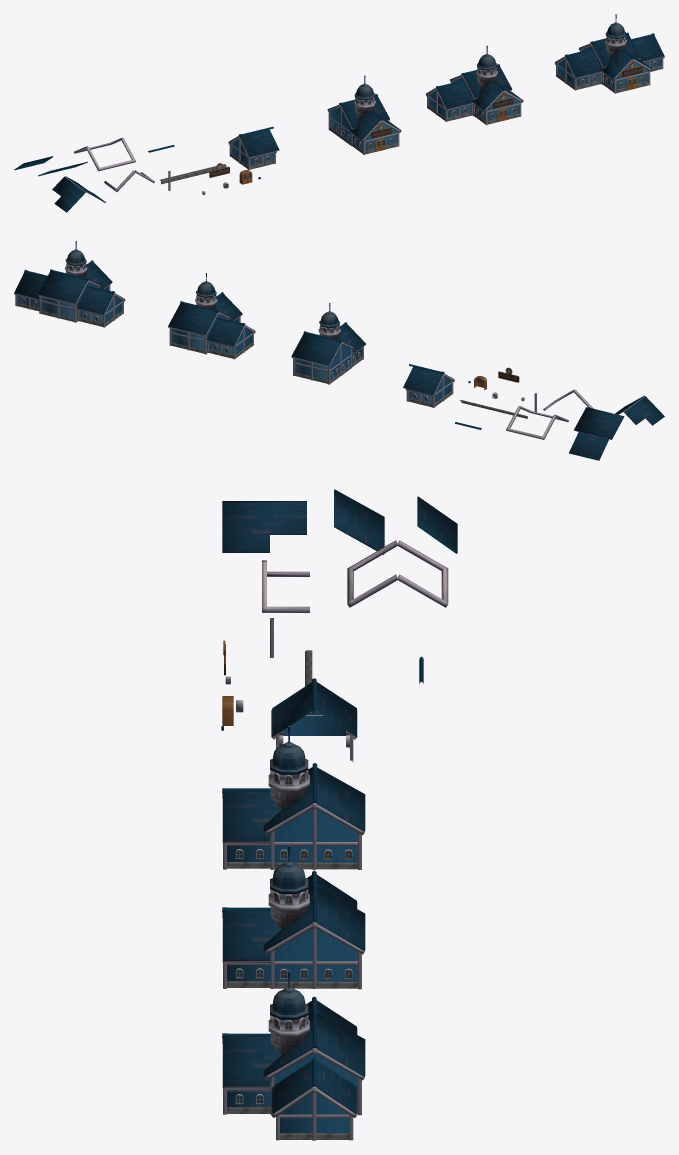
Rendered from Aquarium_asset.fbx.
3 views of the same model, one above another, from view 1: azimuth 30°, elevation 25°; view 2: azimuth 150°, elevation 25°; view 3: azimuth 270°, elevation 25° (orthographic). The views are drawn at different scales.
Visible parts, largest first — view 1: aquarium_3, aquarium_2, aquarium_1, asset_aquarium15, asset_aquarium10, asset_aquarium3, asset_aquarium2; view 2: aquarium_3, aquarium_2, aquarium_1, asset_aquarium15, asset_aquarium11, asset_aquarium10, asset_aquarium13, asset_aquarium3; view 3: aquarium_3, aquarium_2, aquarium_1, asset_aquarium15, asset_aquarium10, asset_aquarium11, asset_aquarium3, asset_aquarium13.
Boxes of the visible parts, x1=… form: aquarium_3: x1=554, y1=14, x2=664, y2=93; aquarium_2: x1=425, y1=45, x2=523, y2=124; aquarium_1: x1=327, y1=75, x2=401, y2=154; asset_aquarium15: x1=228, y1=126, x2=279, y2=169; asset_aquarium10: x1=52, y1=176, x2=105, y2=212; asset_aquarium3: x1=73, y1=137, x2=135, y2=171; asset_aquarium2: x1=160, y1=164, x2=226, y2=184; aquarium_3: x1=14, y1=241, x2=125, y2=327; aquarium_2: x1=168, y1=273, x2=255, y2=359; aquarium_1: x1=291, y1=303, x2=365, y2=384; asset_aquarium15: x1=403, y1=364, x2=454, y2=407; asset_aquarium11: x1=574, y1=407, x2=624, y2=439; asset_aquarium10: x1=615, y1=396, x2=664, y2=425; asset_aquarium13: x1=569, y1=432, x2=608, y2=460; asset_aquarium3: x1=506, y1=406, x2=568, y2=439; aquarium_3: x1=222, y1=971, x2=365, y2=1140; aquarium_2: x1=222, y1=845, x2=365, y2=989; aquarium_1: x1=222, y1=725, x2=365, y2=869; asset_aquarium15: x1=271, y1=678, x2=357, y2=761; asset_aquarium10: x1=222, y1=501, x2=306, y2=552; asset_aquarium11: x1=334, y1=489, x2=384, y2=554; asset_aquarium3: x1=347, y1=540, x2=448, y2=607; asset_aquarium13: x1=417, y1=496, x2=457, y2=553.
Size of the model in its own units: 39414 by 4085 by 6594.
Materials: 2 (2 with a texture image).
